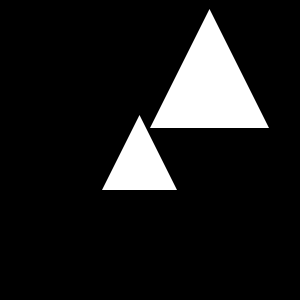triangle: (150, 9, 269, 128), (102, 115, 177, 190)
